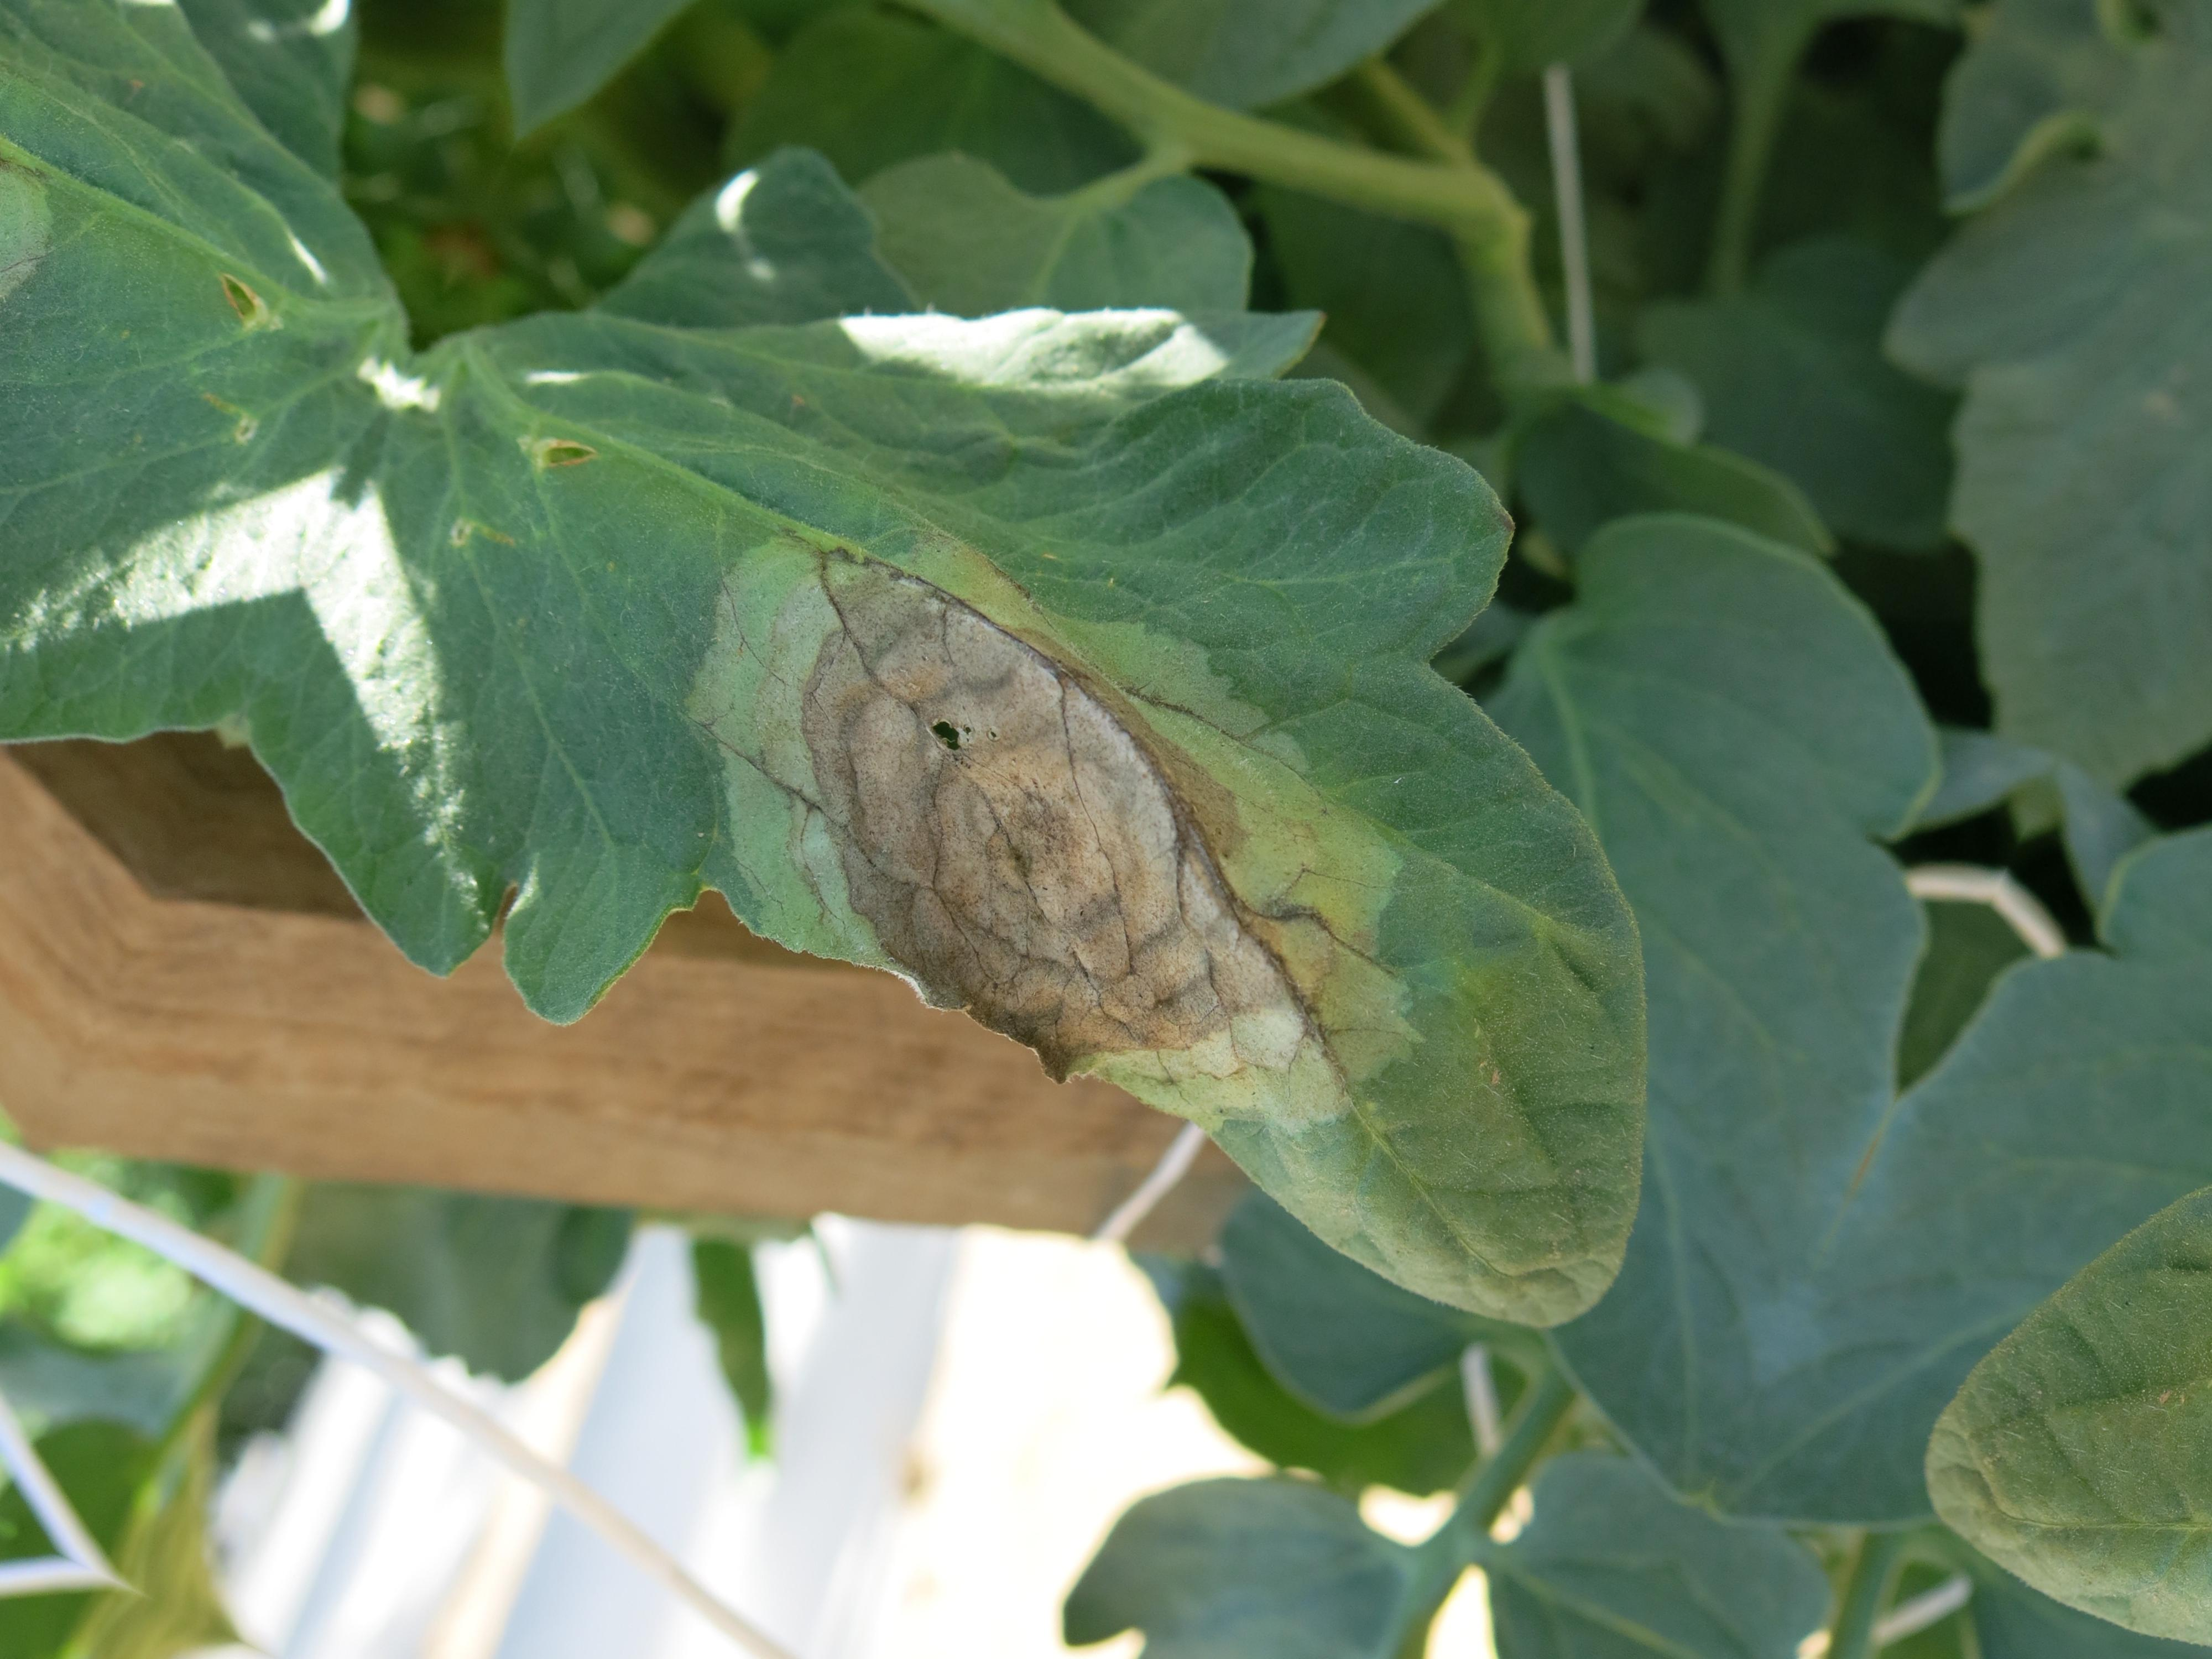Tomato leaf late blight: (183, 0, 2006, 1523)
